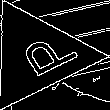P_SW: (2, 27, 73, 84)
